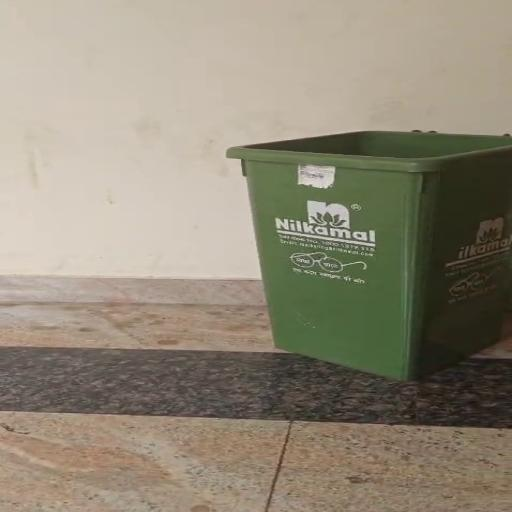Nilkamal-dustbin-detection: (227, 131, 511, 379)
